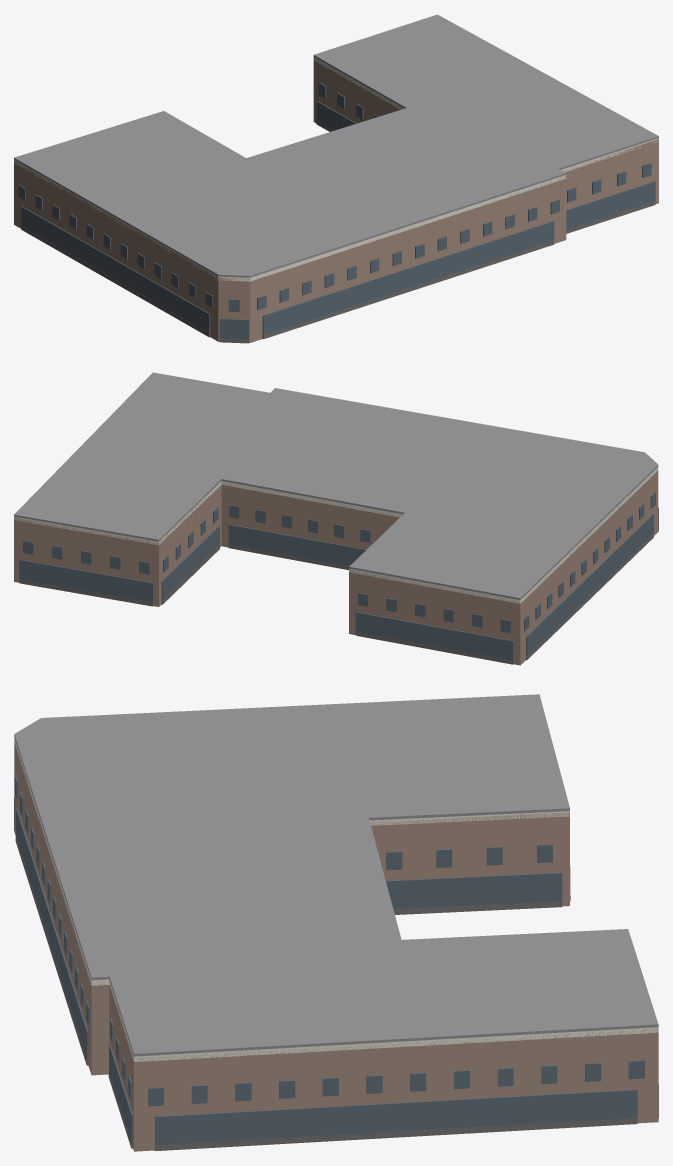
File: s29_tile_tile__2__1_0.glb
3 views of the same model, one above another, from view 1: azimuth 30°, elevation 25°; view 2: azimuth 150°, elevation 25°; view 3: azimuth 270°, elevation 25° (orthographic). The views are drawn at different scales.
Visible parts, largest first — view 1: roofcap, mass, store_8, store_6, cornice, store_10, bulk_8, bulk_6, store_2, store_7; view 2: roofcap, mass, store_5, cornice, store_1, store_6, store_3, store_2, bulk_5, bulk_1, bulk_6, bulk_3; view 3: roofcap, mass, store_0, cornice, store_4, bulk_0, store_8, bulk_4, store_10.
Part boxes in pixels (x1,y1,x2,y2): roofcap: [14, 14, 658, 277]; mass: [14, 59, 658, 342]; store_8: [262, 221, 554, 336]; store_6: [21, 206, 210, 334]; cornice: [14, 57, 658, 281]; store_10: [566, 181, 655, 229]; bulk_8: [262, 240, 554, 339]; bulk_6: [21, 226, 210, 337]; store_2: [316, 101, 356, 130]; store_7: [219, 318, 248, 341]; roofcap: [14, 372, 658, 599]; mass: [14, 470, 658, 665]; store_5: [355, 612, 513, 662]; cornice: [14, 467, 658, 603]; store_1: [19, 559, 153, 603]; store_6: [526, 514, 653, 658]; store_3: [228, 524, 366, 566]; store_2: [161, 525, 219, 600]; bulk_5: [355, 631, 513, 664]; bulk_1: [19, 579, 153, 606]; bulk_6: [526, 533, 653, 660]; bulk_3: [228, 544, 348, 570]; roofcap: [14, 694, 658, 1056]; mass: [14, 743, 658, 1151]; store_0: [155, 1089, 637, 1145]; cornice: [14, 737, 658, 1061]; store_4: [386, 872, 562, 909]; bulk_0: [155, 1118, 637, 1151]; store_8: [16, 807, 88, 1059]; bulk_4: [393, 901, 562, 914]; store_10: [109, 1043, 132, 1145].
Bounding box in the file's own units: 65.89 × 8.35 × 49.94.
